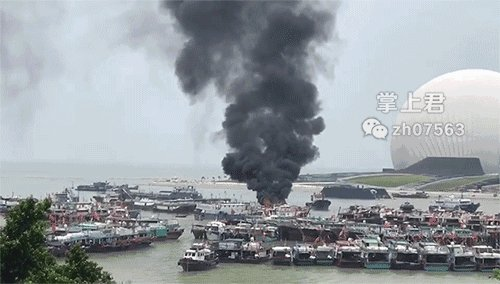smoke: (195, 6, 329, 192)
